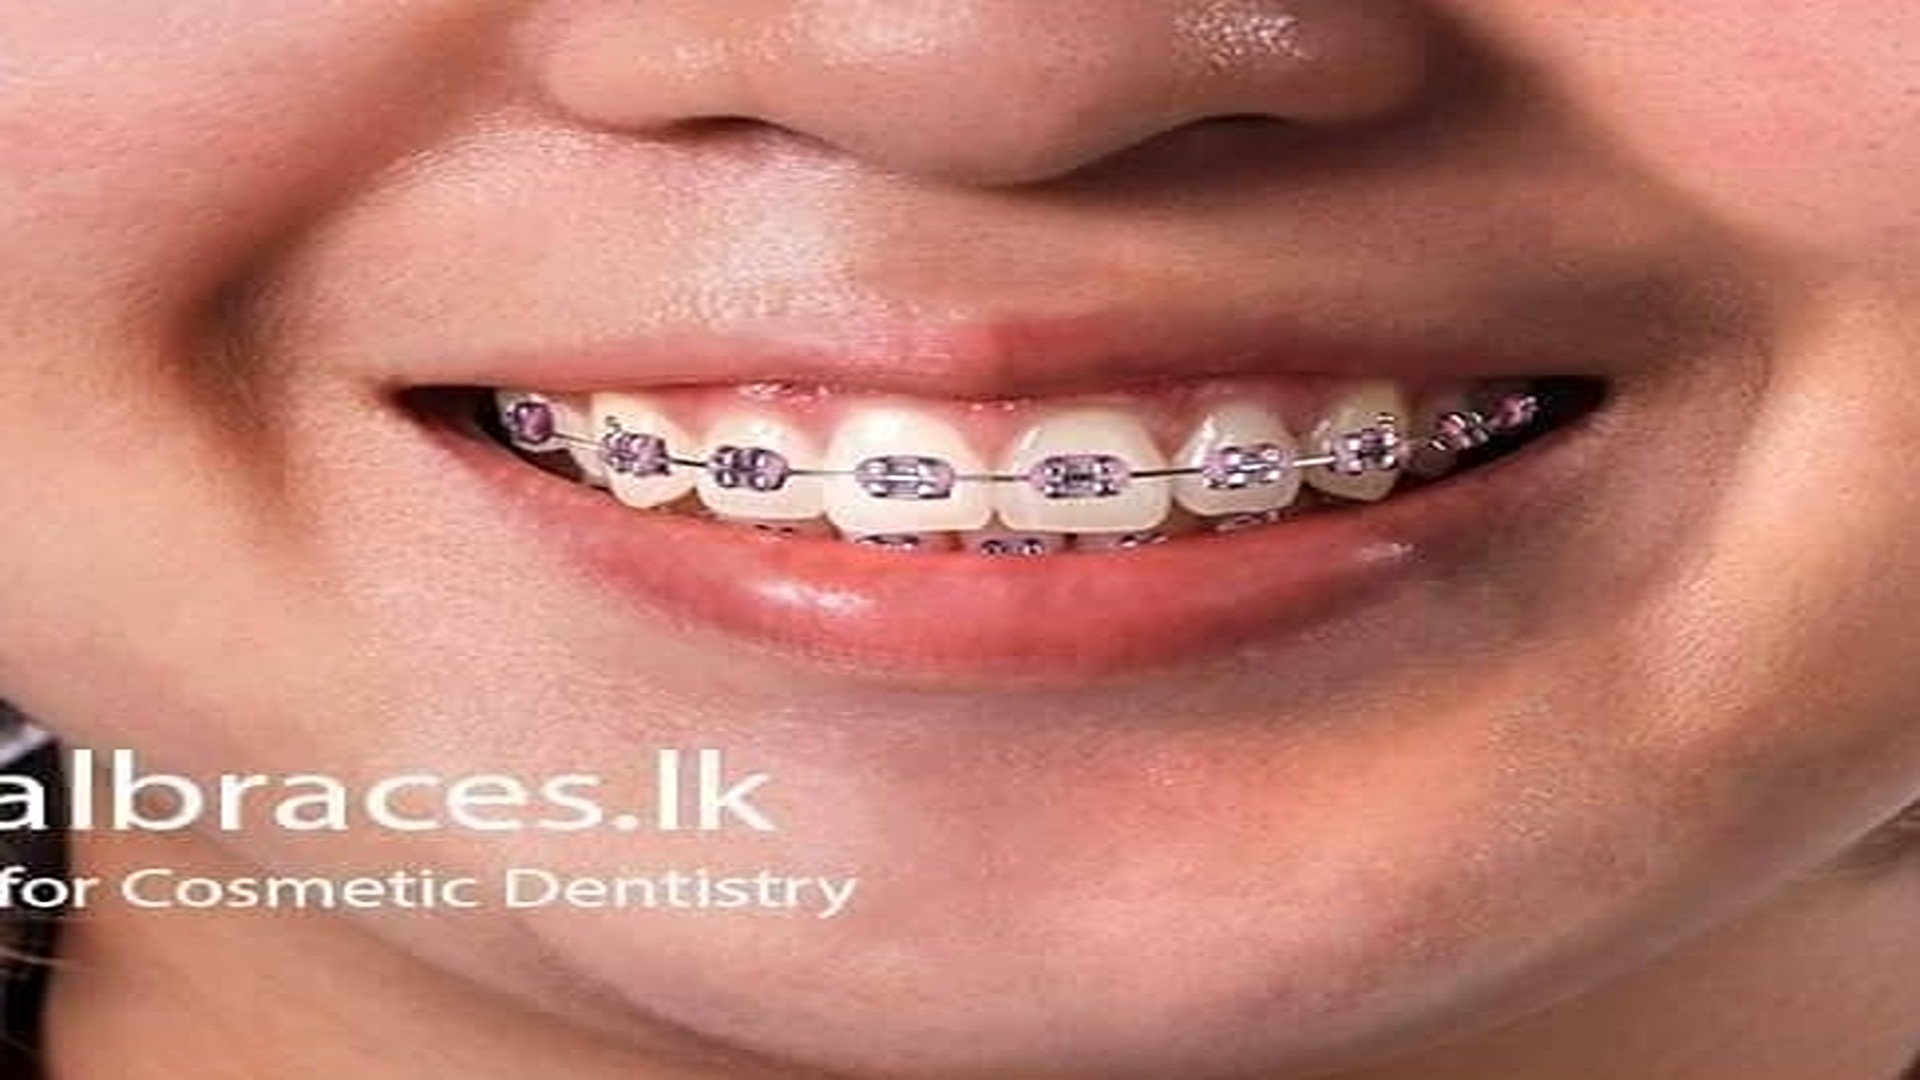tooth: (825, 411, 992, 546), (997, 413, 1174, 535), (694, 414, 828, 526), (1170, 407, 1303, 517), (587, 392, 702, 508), (1307, 381, 1408, 502)
